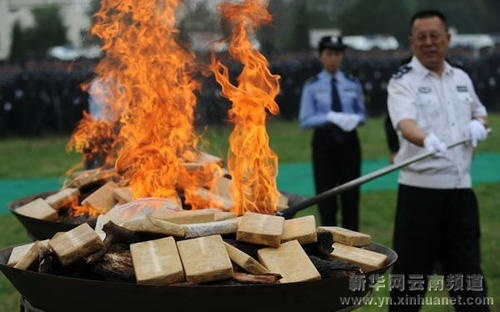fire: (58, 0, 256, 223), (207, 2, 287, 217)
